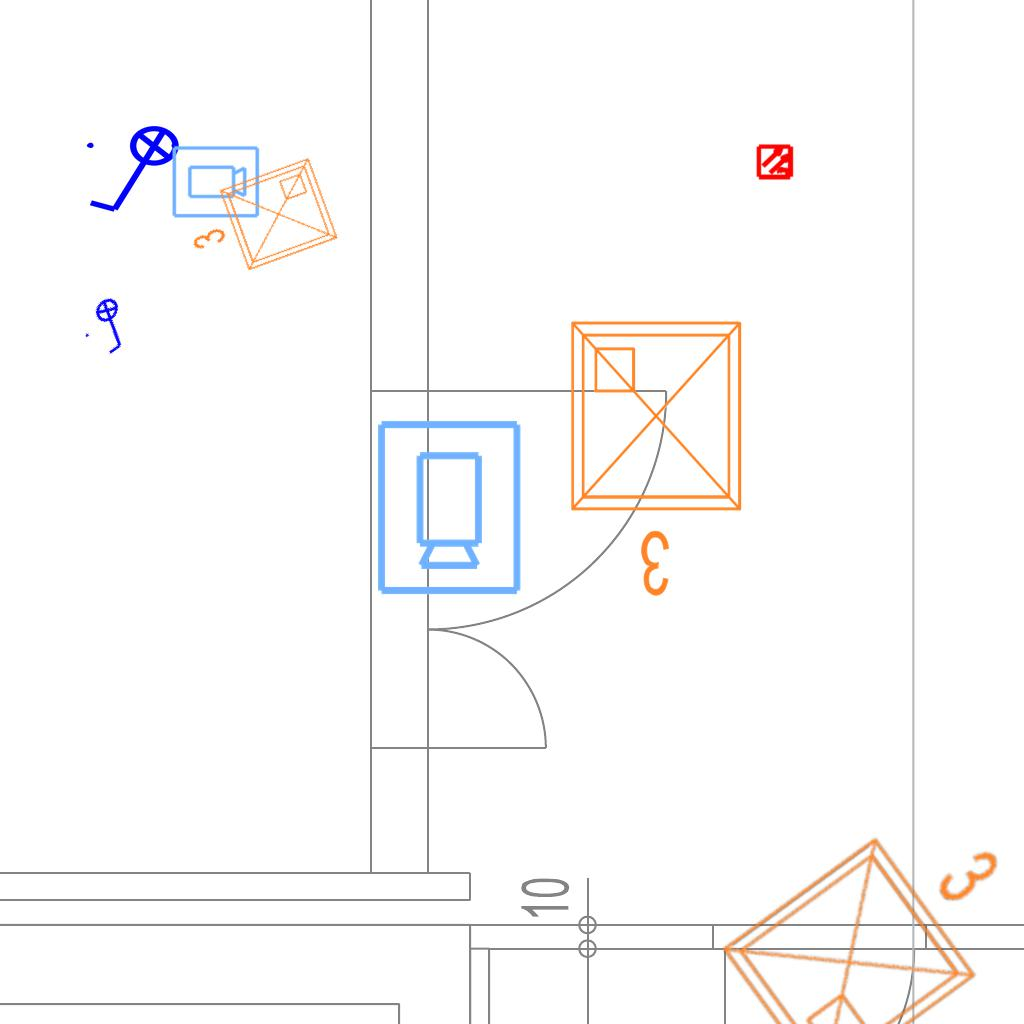Ausschalter_beleuchtet: (81, 124, 193, 220), (75, 288, 149, 362)
Einbaudownlights_LED_Konferenzraeume: (697, 762, 1024, 1024), (556, 307, 764, 607), (171, 148, 349, 298)
KFO_Kamera_mit_Festobjektiv: (371, 416, 525, 598), (170, 144, 261, 221)
OT_Multisensormelder_(Kombination_RMO_WMD): (748, 134, 804, 190)
